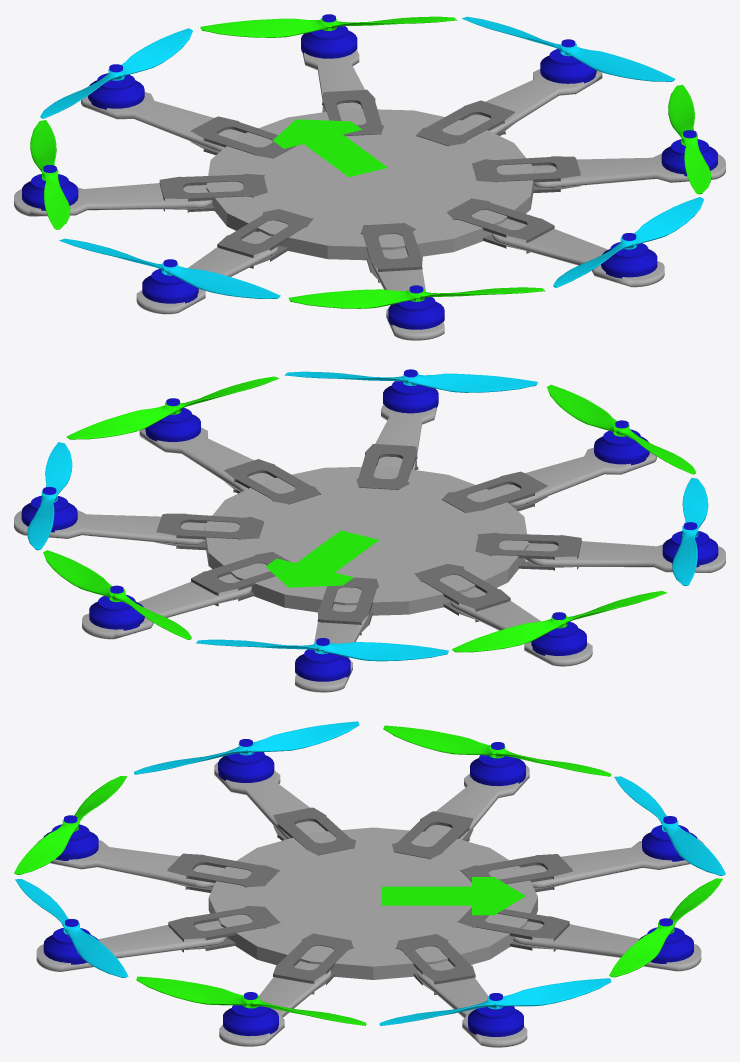
Rendered from octo_x8.gltf.
3 views of the same model, one above another, from view 1: azimuth 30°, elevation 25°; view 2: azimuth 150°, elevation 25°; view 3: azimuth 270°, elevation 25° (orthographic).
Visible parts, largest first — view 1: octa-x; view 2: octa-x; view 3: octa-x.
Boxes of the visible parts, x1,y1,x2,y2 form: octa-x: [14, 14, 725, 340]; octa-x: [14, 369, 725, 692]; octa-x: [14, 721, 725, 1047].
Size of the model in its own units: 1.05 by 0.0654 by 1.04.
